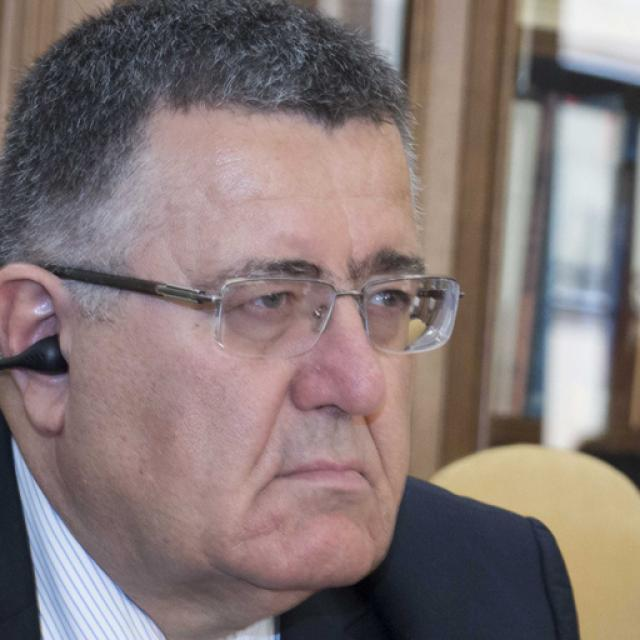sad: (69, 109, 426, 592)
